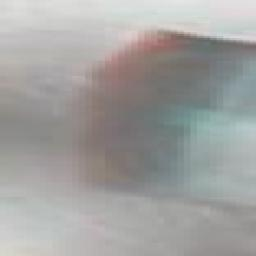crystals: (74, 20, 249, 223)
